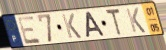7: (36, 13, 55, 44)
A: (85, 11, 107, 39)
E: (16, 15, 43, 46)
K: (60, 13, 83, 40), (125, 7, 148, 34)
T: (104, 7, 124, 37)
